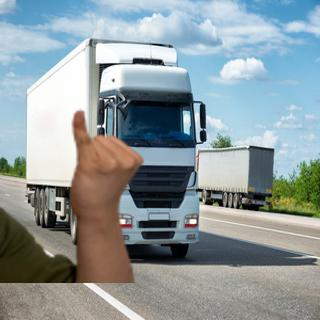FINE: (65, 107, 147, 231)
